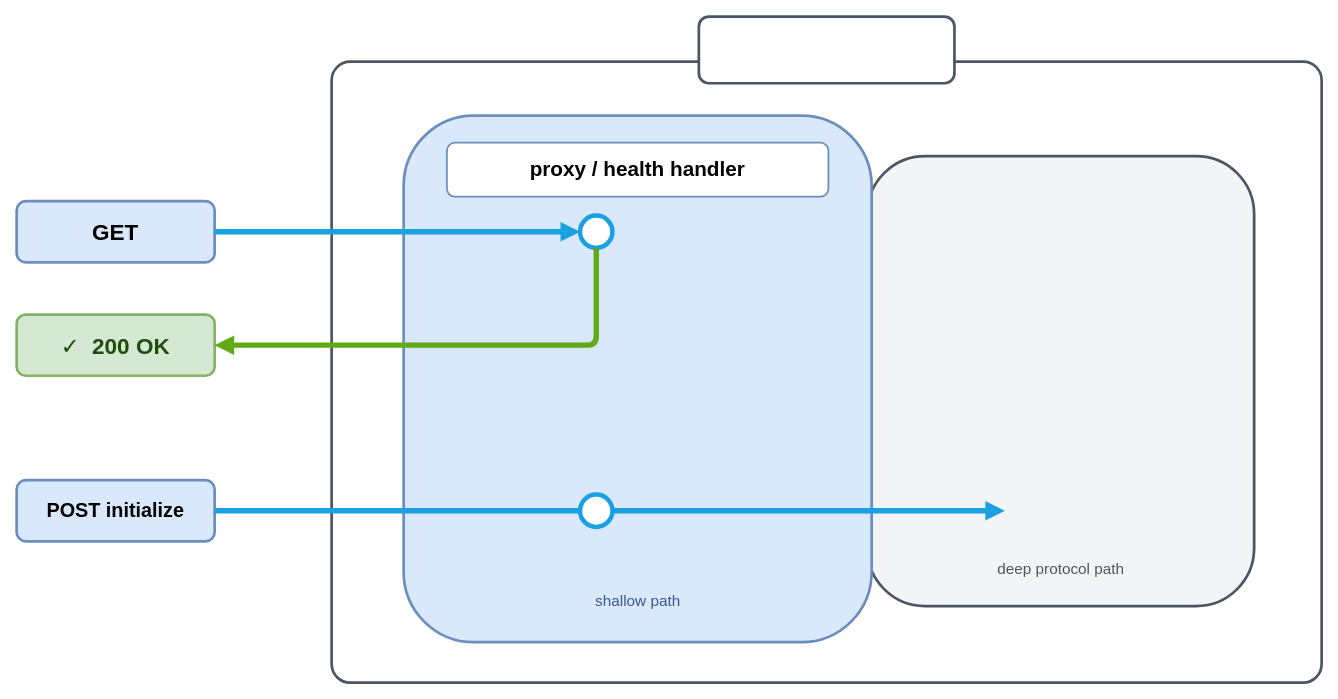
Some shapes in this 1338 by 699 pixel diagram are drawn without their labels. Here are the shapes that lost their labels. From the top down, the box of each, then its label:
(697, 15, 955, 84): /mcp
(865, 154, 1255, 607): JSON-RPC handler / tool registry ✕ BROKEN
